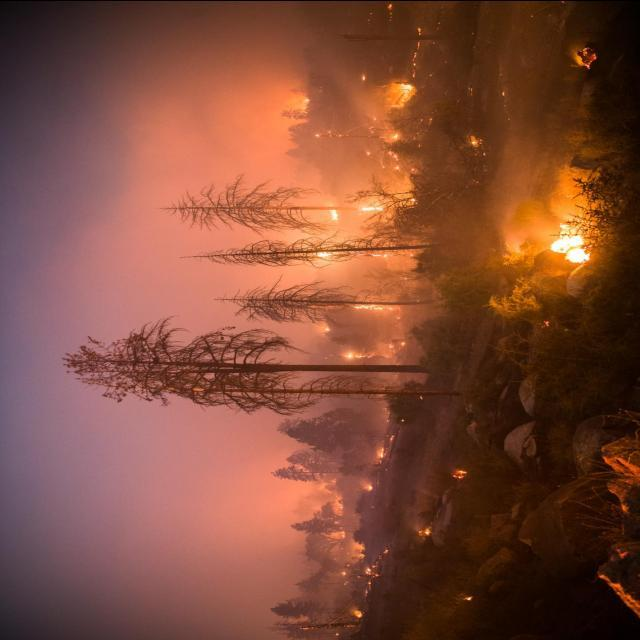Fire: (314, 200, 394, 310), (546, 218, 594, 264), (381, 78, 423, 108), (568, 42, 597, 70)
